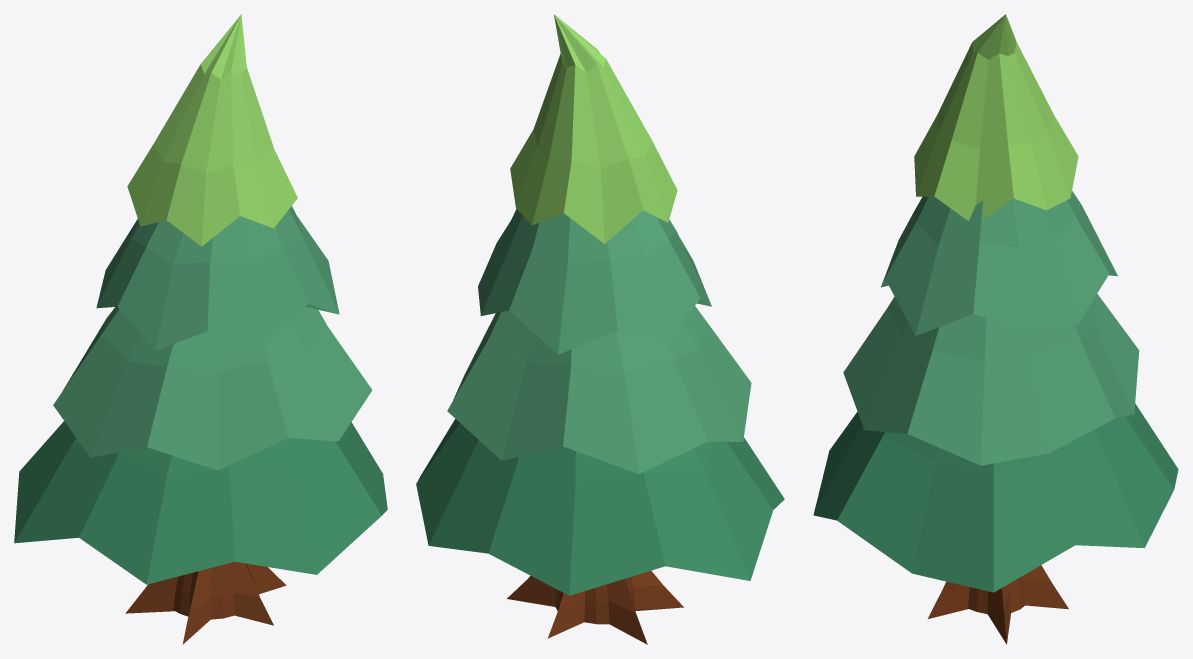
Rendered from Spruce.glb.
3 views of the same model, side by side, from view 1: azimuth 30°, elevation 25°; view 2: azimuth 150°, elevation 25°; view 3: azimuth 270°, elevation 25° (orthographic). The views are drawn at different scales.
Parts seen in each view (by area): view 1: Spruce; view 2: Spruce; view 3: Spruce.
Part boxes in pixels (box(x1,y1,x2,y2)): Spruce: box(14, 14, 387, 644); Spruce: box(416, 14, 784, 644); Spruce: box(813, 14, 1178, 644).
Size of the model in its own units: 2.78 by 4.48 by 2.44.
1 material, 1 textured.
